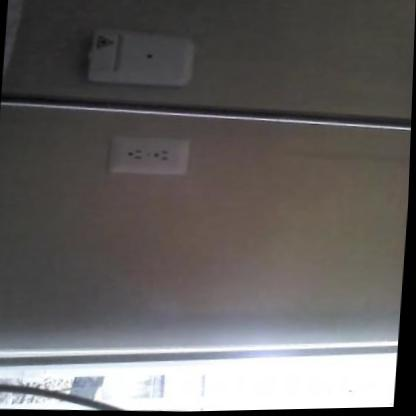OUTLET: (107, 134, 190, 176)
